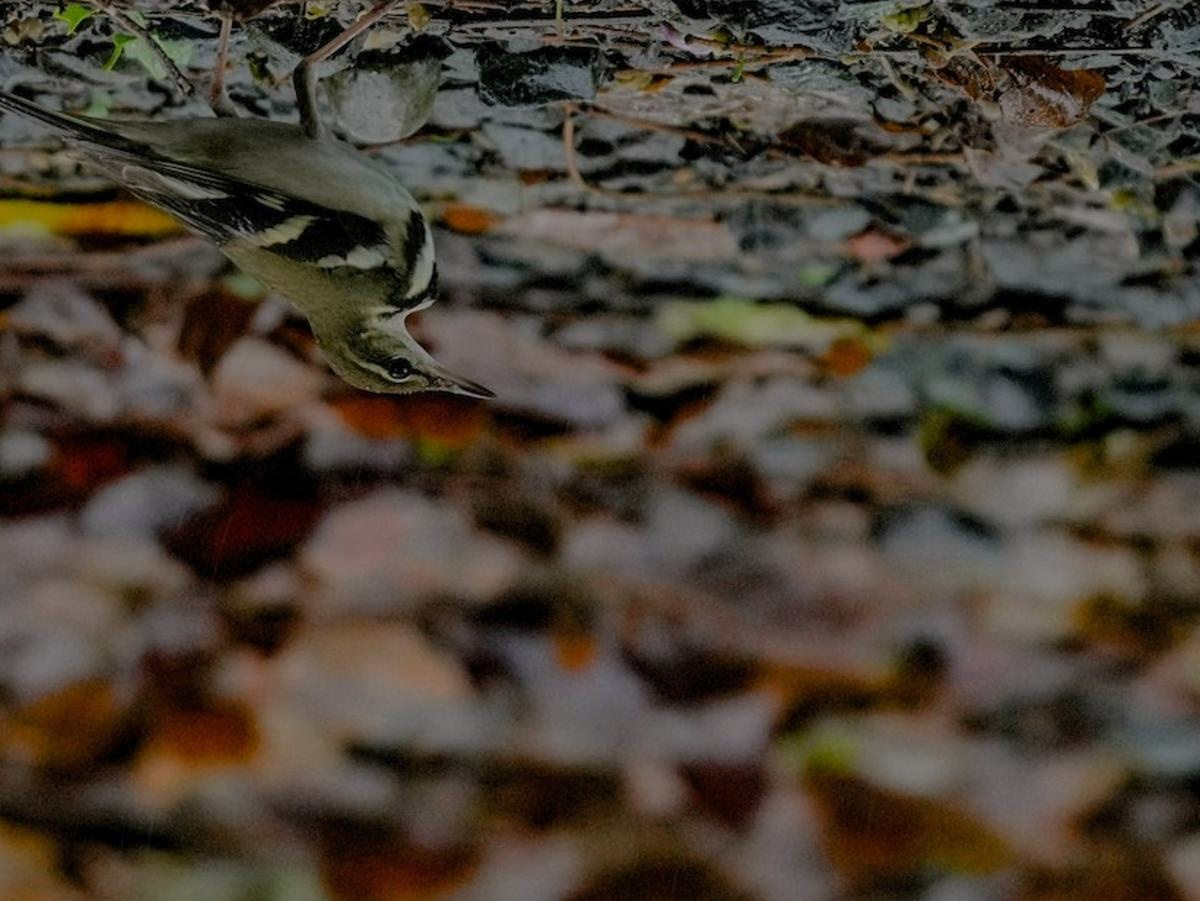wagtail: (71, 56, 507, 425)
